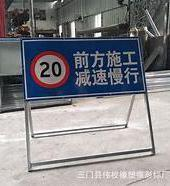sign: (20, 36, 147, 101)
